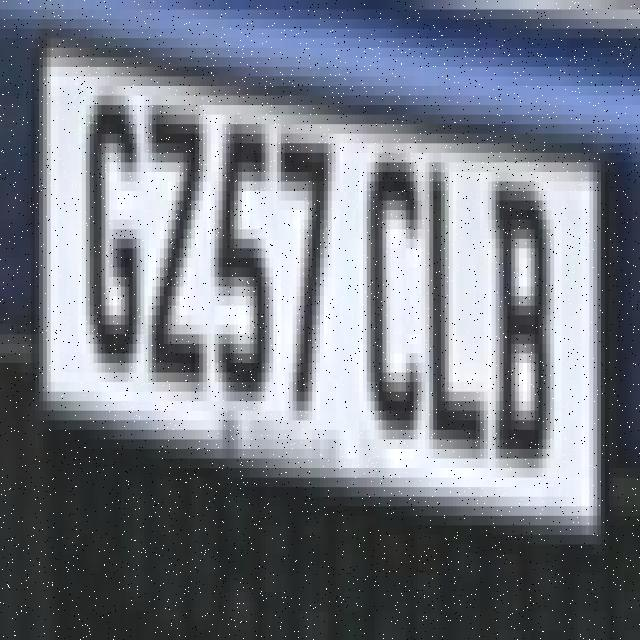licenseplate: (19, 11, 626, 606)
